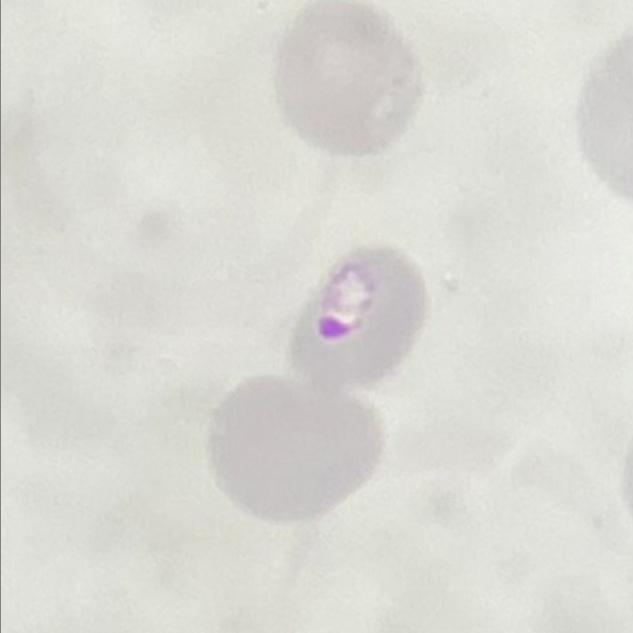Infected: (288, 242, 428, 390)
Uninfected: (210, 375, 389, 527), (276, 0, 427, 155)
